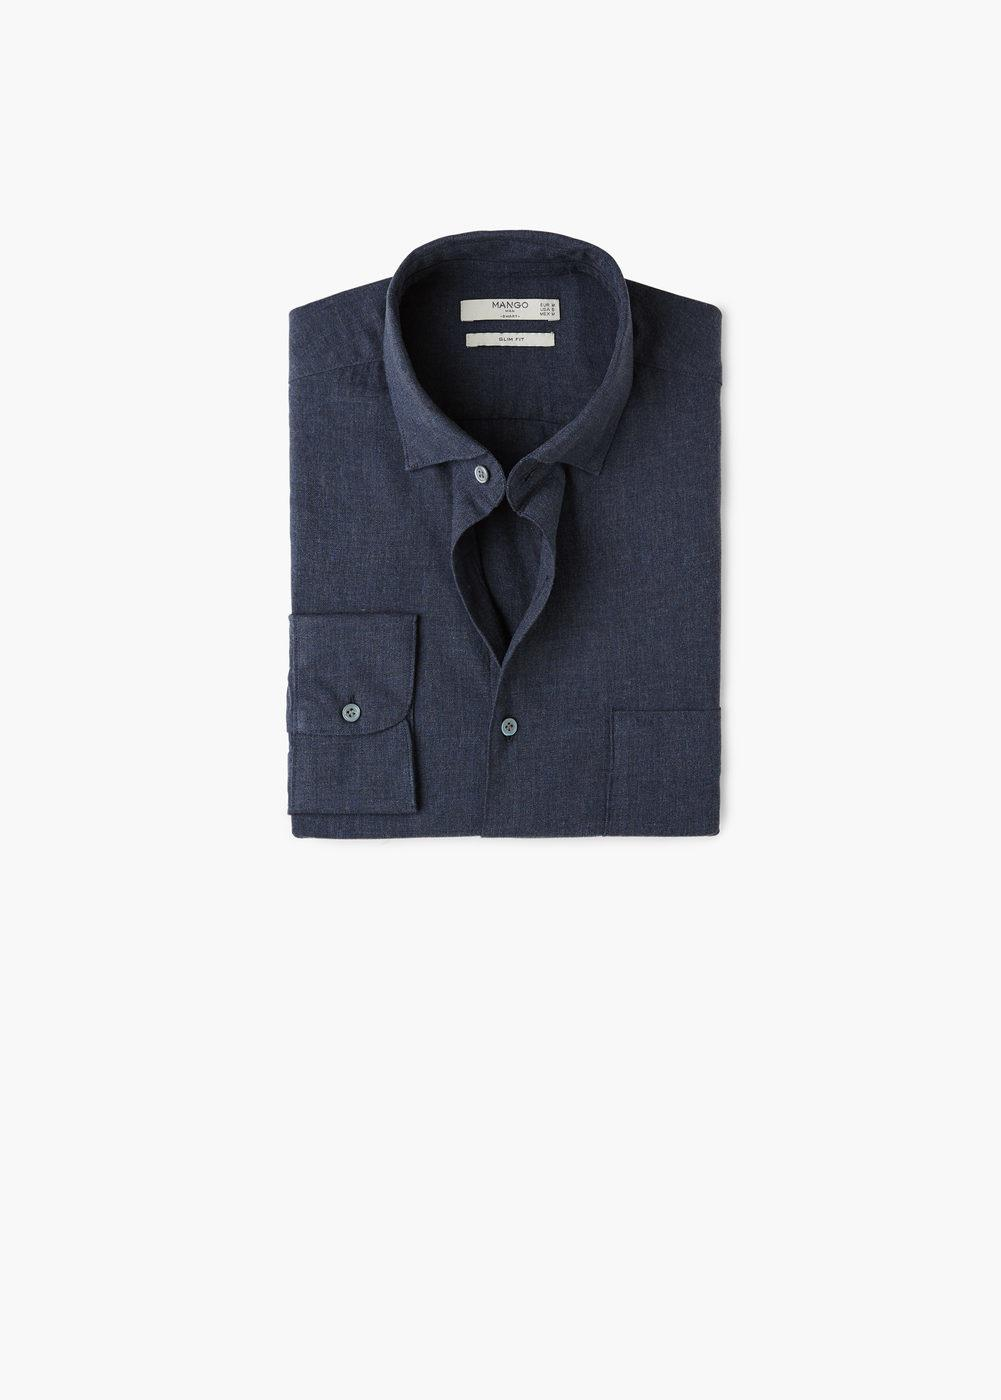teeshirt: (255, 223, 747, 855)
